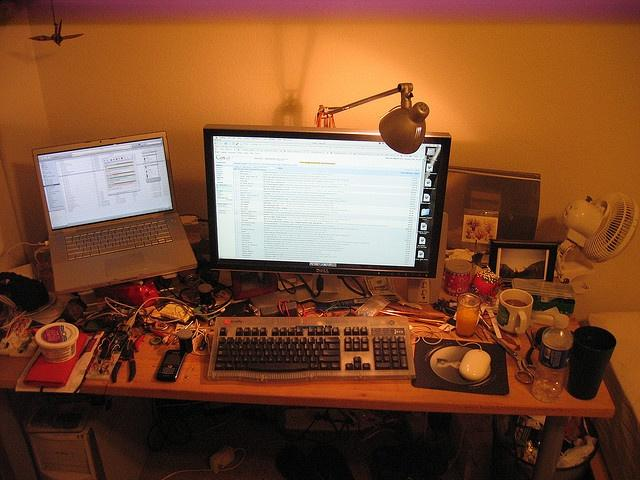AIO PC-Monitor-TV: (203, 121, 450, 300)
